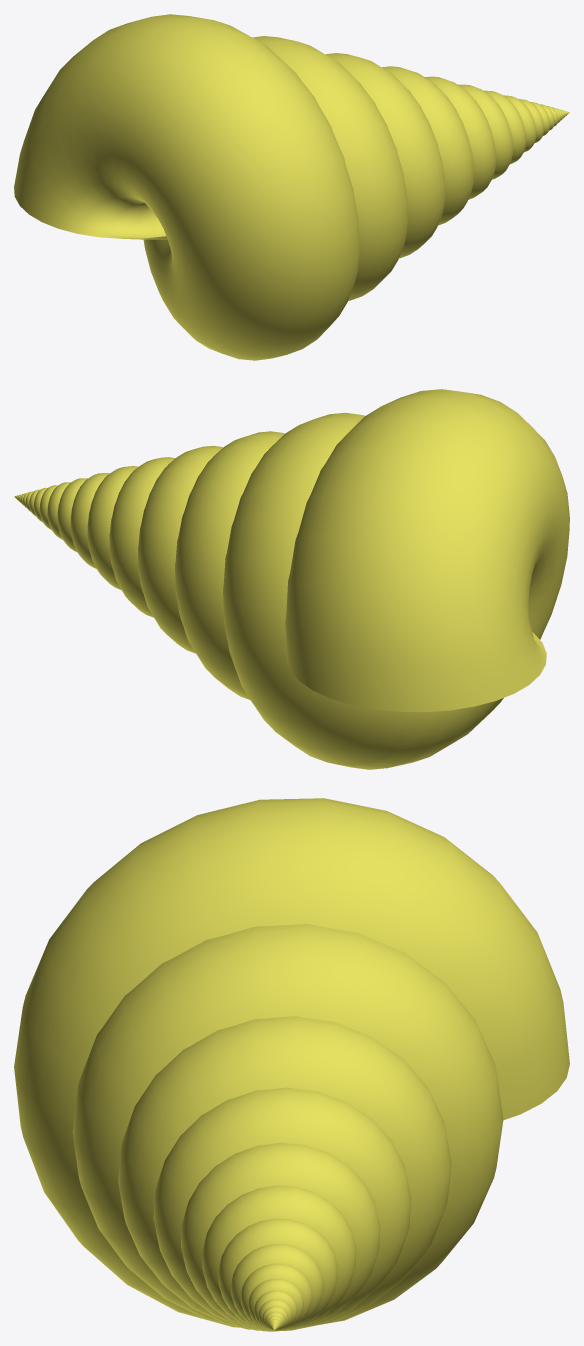
3 views of the same model, one above another, from view 1: azimuth 30°, elevation 25°; view 2: azimuth 150°, elevation 25°; view 3: azimuth 270°, elevation 25° (orthographic). The views are drawn at different scales.
Visible parts, largest first — view 1: t13; view 2: t13; view 3: t13.
Boxes of the visible parts, x1,y1,x2,y2 form: t13: (14,14,569,360); t13: (14,389,569,769); t13: (14,798,569,1331).
Bounding box in the file's own units: 500 × 308 × 330.
